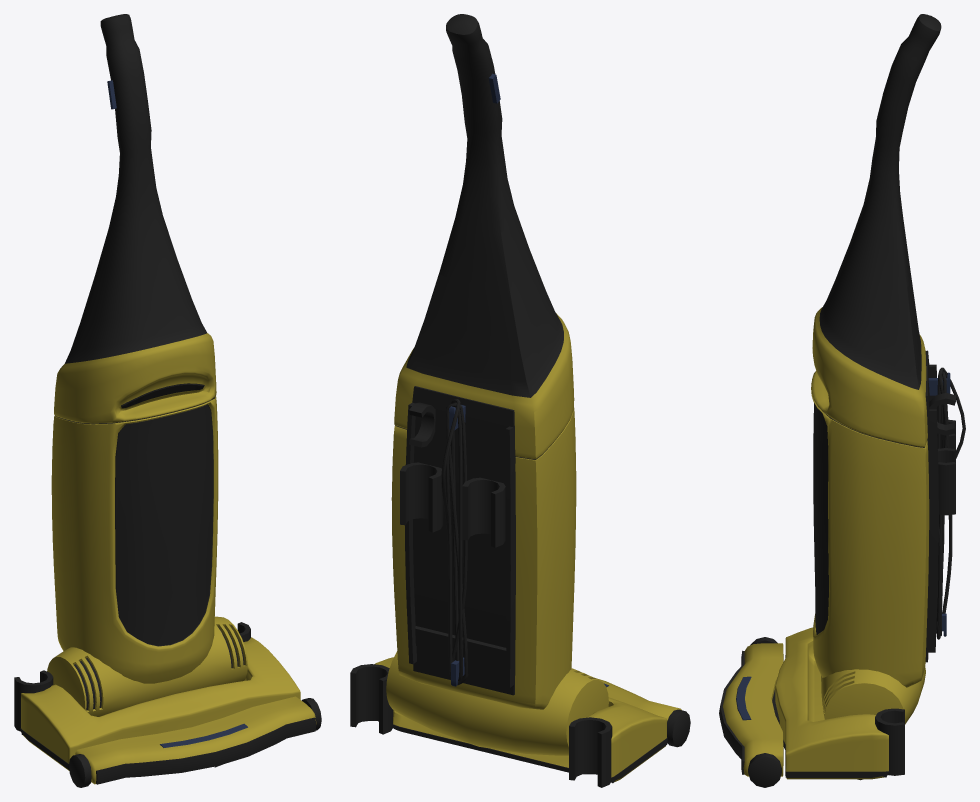
File: Vacuums.fbx
The picture shows the model from 3 angles, left to right: view 1: azimuth 30°, elevation 25°; view 2: azimuth 150°, elevation 25°; view 3: azimuth 270°, elevation 25°; orthographic projection. The views are drawn at different scales.
Parts seen in each view (by area): view 1: Handle, Vacuum3, GlassCover; view 2: Handle, Vacuum3, Cord3; view 3: Handle, Vacuum3, GlassCover, Cord3.
Part boxes in pixels (x1,y1,x2,y2): Handle: [47, 14, 321, 787]; Vacuum3: [14, 622, 316, 784]; GlassCover: [115, 404, 213, 645]; Handle: [378, 14, 690, 755]; Vacuum3: [350, 657, 681, 787]; Cord3: [441, 399, 468, 685]; Handle: [748, 14, 955, 787]; Vacuum3: [719, 627, 904, 779]; GlassCover: [813, 403, 828, 634]; Cord3: [936, 367, 965, 639].
Bounding box in the file's own units: 47.47 × 130 × 40.99.
